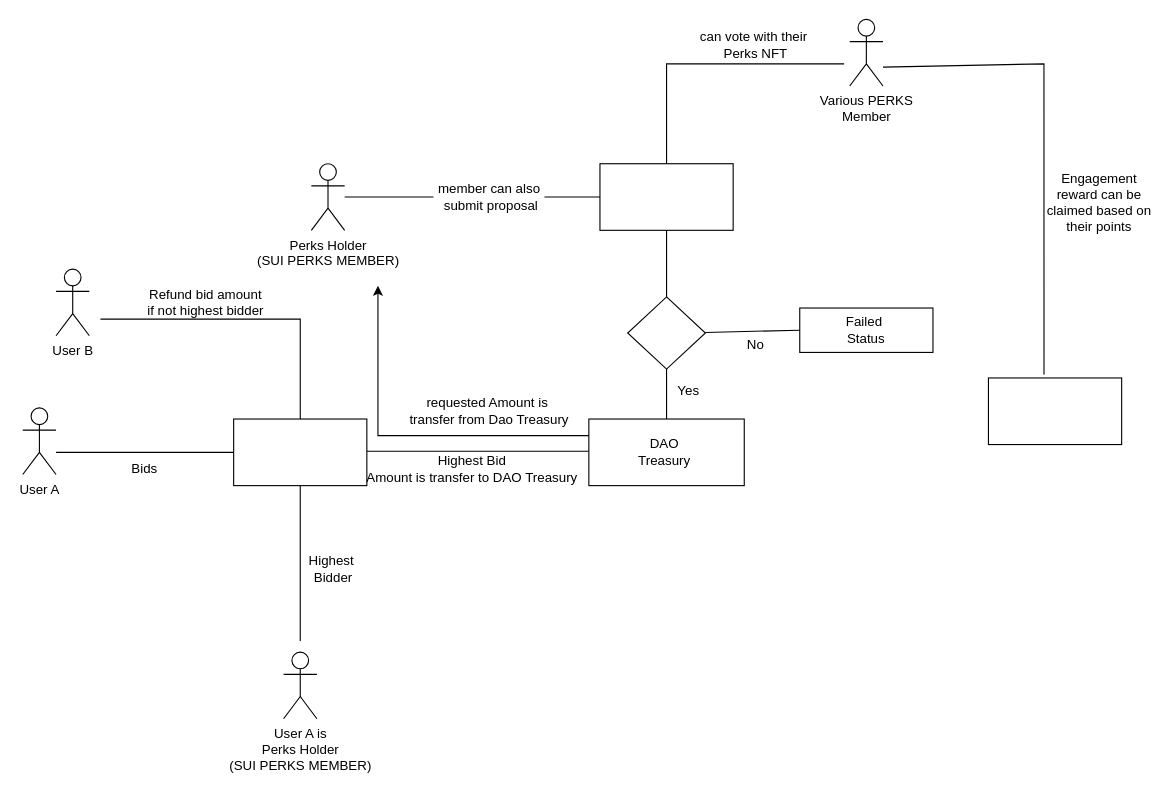
The diagram is 1173 pixels wide and 794 high, and some of its shapes have lost their labels. The centre of each missing label's shape, as x and y in pixels:
Auction House (Every 24 hour, 1 perks auction): pixel 300 452
OXCOIN: pixel 1054 411
Passes: pixel 666 332
PROPOSAL: pixel 666 196
